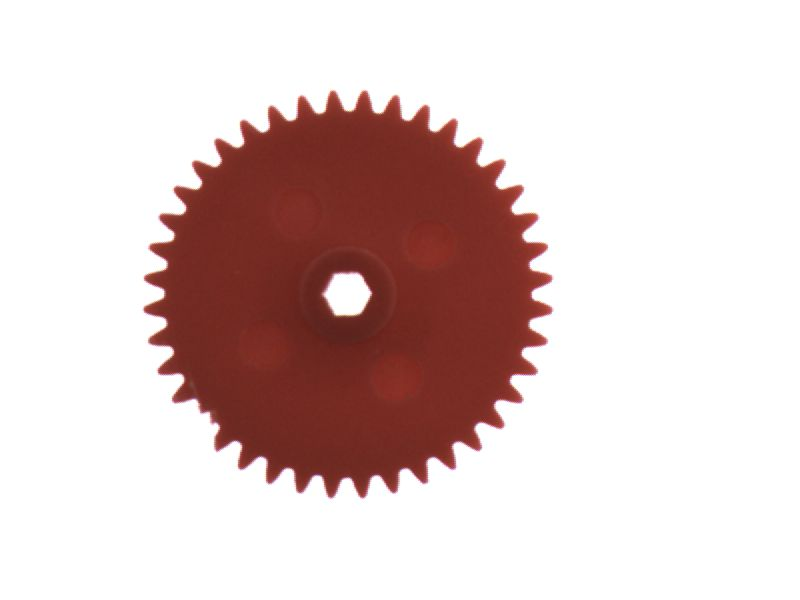defect_lack: (153, 395, 228, 452)
